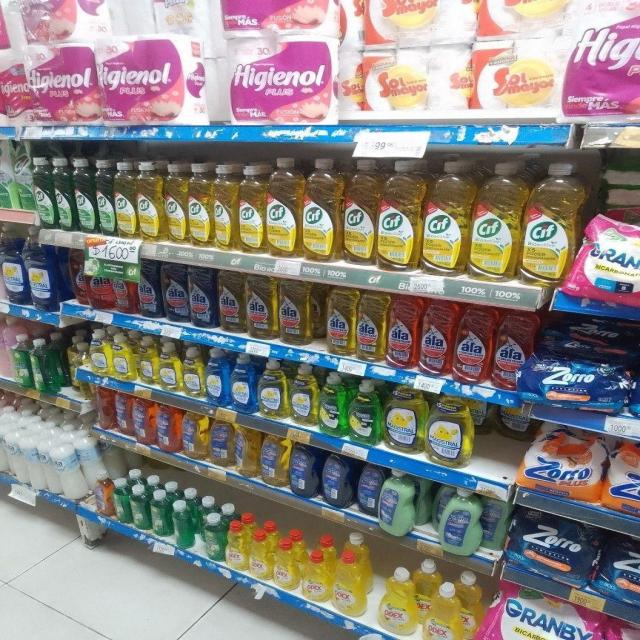ala_conc_amarillo: (279, 276, 311, 346), (325, 284, 356, 356), (357, 289, 386, 363), (246, 272, 277, 340), (218, 268, 244, 334)
ala_conc_azul: (189, 264, 216, 328), (162, 260, 188, 324), (138, 257, 161, 319)
ala_conc_rojo: (492, 307, 532, 391), (453, 301, 492, 385), (419, 296, 453, 376), (387, 293, 418, 369), (90, 251, 114, 311), (115, 255, 136, 314), (72, 246, 89, 306)
ala_crem_blanco: (54, 434, 84, 499), (42, 429, 57, 495), (0, 424, 7, 475)
cif_conc_bot_amarilla: (521, 159, 575, 284), (470, 159, 519, 280), (422, 159, 468, 275), (378, 158, 420, 272), (302, 156, 341, 262), (343, 157, 376, 265), (266, 156, 300, 258), (238, 164, 265, 254), (137, 160, 163, 242), (187, 162, 212, 247), (213, 164, 237, 252), (165, 162, 187, 245), (114, 160, 136, 238)
cif_conc_botella_verde: (75, 158, 95, 233), (55, 157, 74, 231), (96, 159, 114, 236), (35, 156, 54, 228)
magistral_con_amarillo: (426, 394, 474, 468), (384, 384, 425, 454), (259, 358, 288, 419), (290, 364, 317, 426), (234, 424, 258, 478), (158, 341, 182, 392), (182, 346, 205, 398), (112, 334, 135, 381), (90, 330, 111, 376), (137, 337, 157, 385)
magistral_con_azul: (28, 239, 59, 309), (1, 233, 26, 304), (230, 353, 257, 413), (206, 348, 229, 406)
odex: (334, 532, 370, 616), (378, 566, 418, 636), (422, 581, 460, 640), (460, 574, 480, 640)
zorro: (440, 488, 480, 554), (379, 469, 417, 535)
